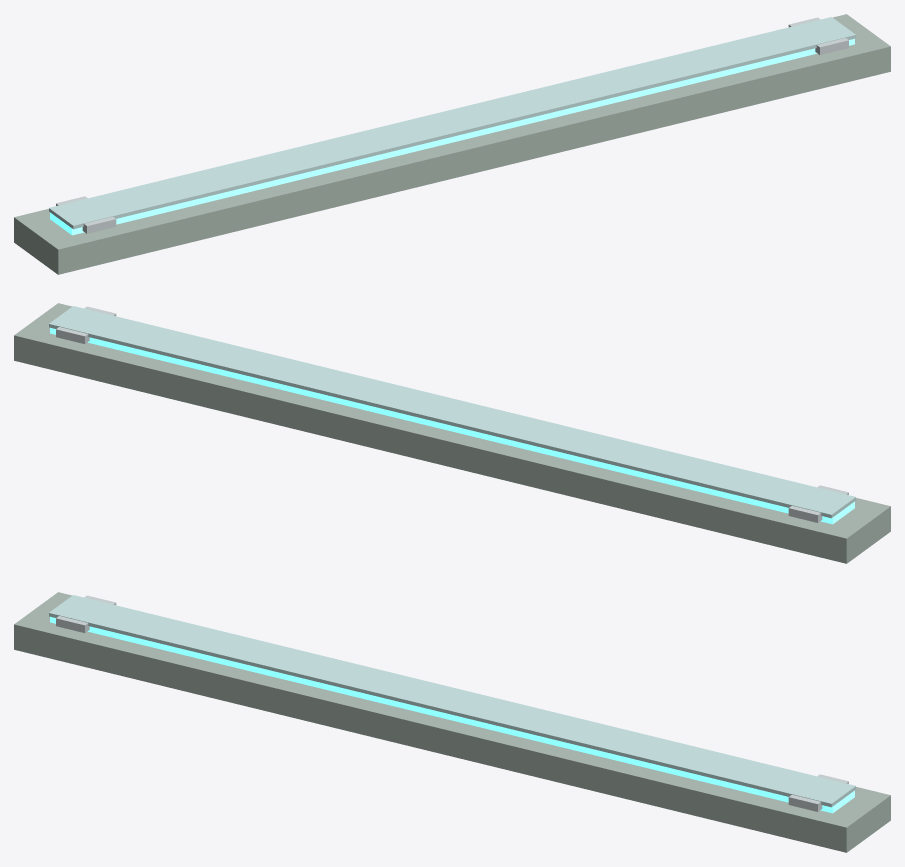
Rendered from s7-lf1-perimeter-straight-1m.glb.
The picture shows the model from 3 angles, top to bottom: view 1: azimuth 30°, elevation 25°; view 2: azimuth 150°, elevation 25°; view 3: azimuth 330°, elevation 25°; orthographic projection.
Parts seen in each view (by area): view 1: 000_waterproof_aluminium_housing, 002_optical_diffuser, 001_continuous_cyan_led_emitter; view 2: 000_waterproof_aluminium_housing, 002_optical_diffuser, 001_continuous_cyan_led_emitter; view 3: 000_waterproof_aluminium_housing, 002_optical_diffuser, 001_continuous_cyan_led_emitter.
Boxes of the visible parts, bbox=[...] form: 000_waterproof_aluminium_housing: bbox=[14, 14, 890, 274]; 002_optical_diffuser: bbox=[49, 17, 855, 229]; 001_continuous_cyan_led_emitter: bbox=[50, 38, 854, 235]; 000_waterproof_aluminium_housing: bbox=[14, 303, 890, 563]; 002_optical_diffuser: bbox=[49, 306, 855, 518]; 001_continuous_cyan_led_emitter: bbox=[50, 327, 854, 524]; 000_waterproof_aluminium_housing: bbox=[14, 592, 890, 852]; 002_optical_diffuser: bbox=[49, 595, 855, 807]; 001_continuous_cyan_led_emitter: bbox=[50, 616, 854, 813].
Bounding box in the file's own units: 1 × 0.041 × 0.092.
